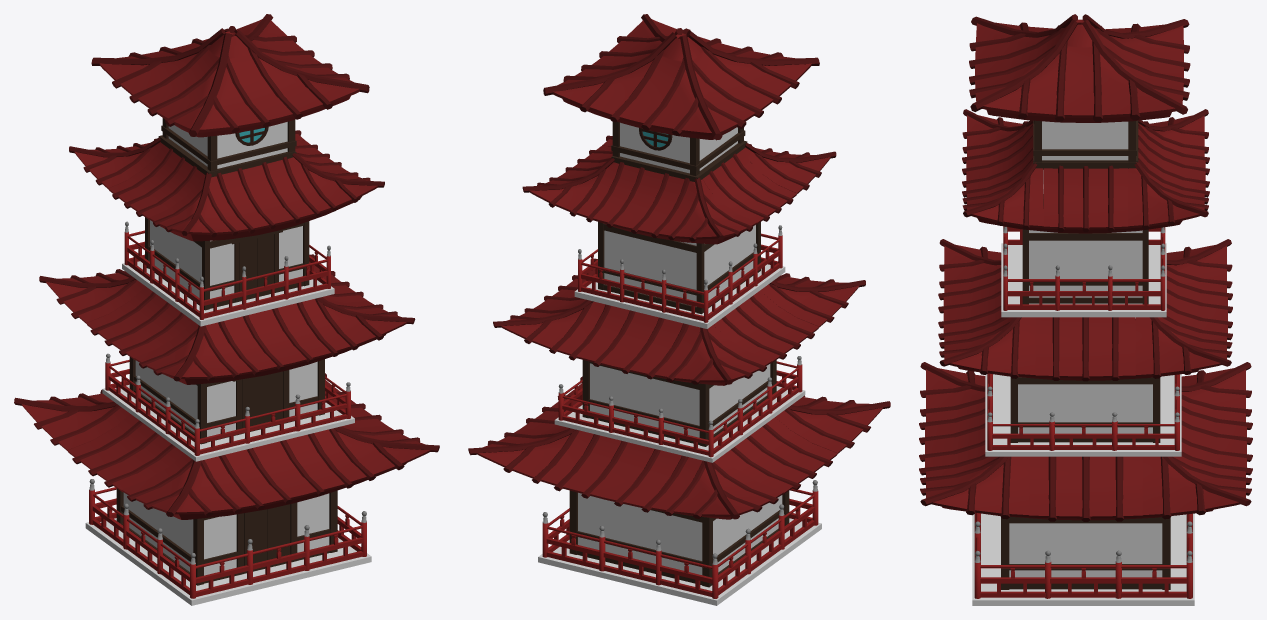
Rendered from SM_pagoda_japan.fbx.
3 renders of one model, left to right at view 1: azimuth 30°, elevation 25°; view 2: azimuth 150°, elevation 25°; view 3: azimuth 270°, elevation 25°, orthographic. The views are drawn at different scales.
Visible parts, largest first — view 1: Box033; view 2: Box033; view 3: Box033.
Part boxes in pixels (x1=…): Box033: x1=14, y1=14, x2=439, y2=605; Box033: x1=468, y1=14, x2=890, y2=605; Box033: x1=919, y1=14, x2=1252, y2=605.
Bounding box in the file's own units: 337 × 605 × 337.
